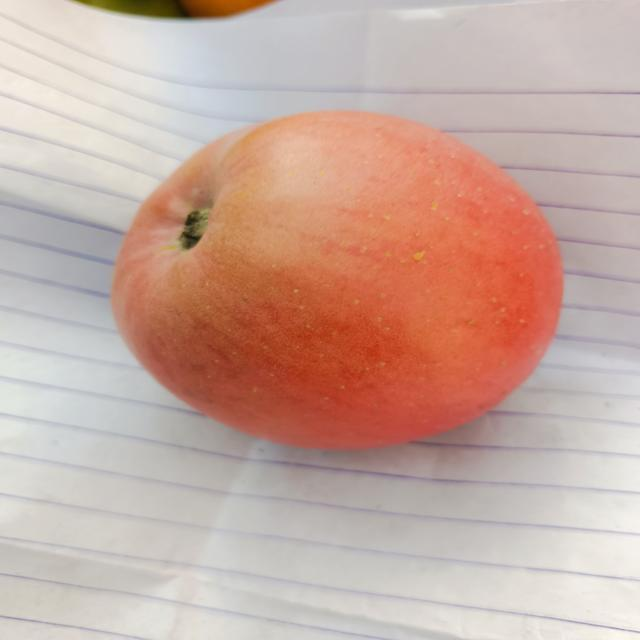Fresh Apple: (110, 111, 570, 440)
